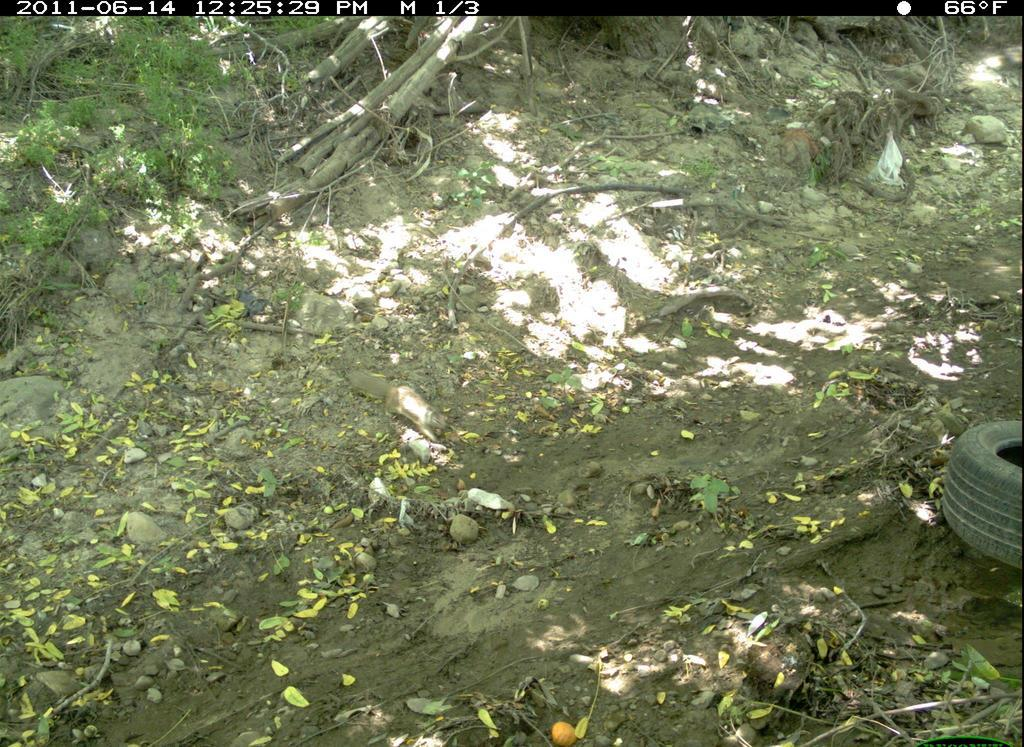squirrel: (346, 367, 456, 446)
